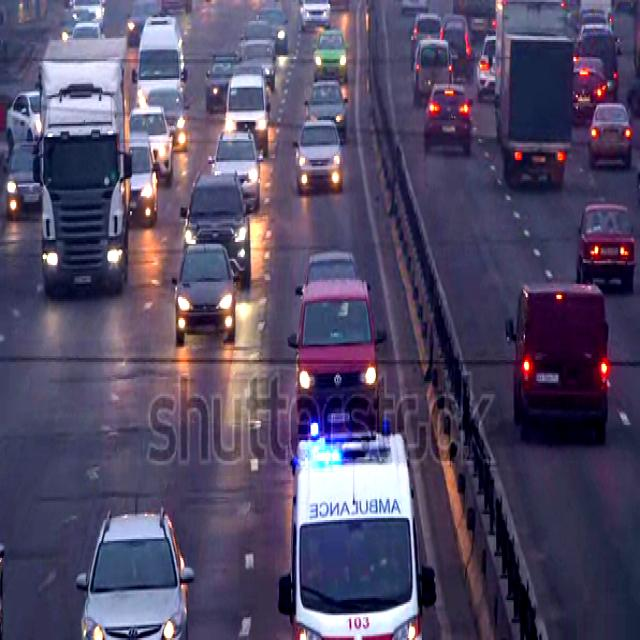ambulance: (270, 415, 438, 640)
